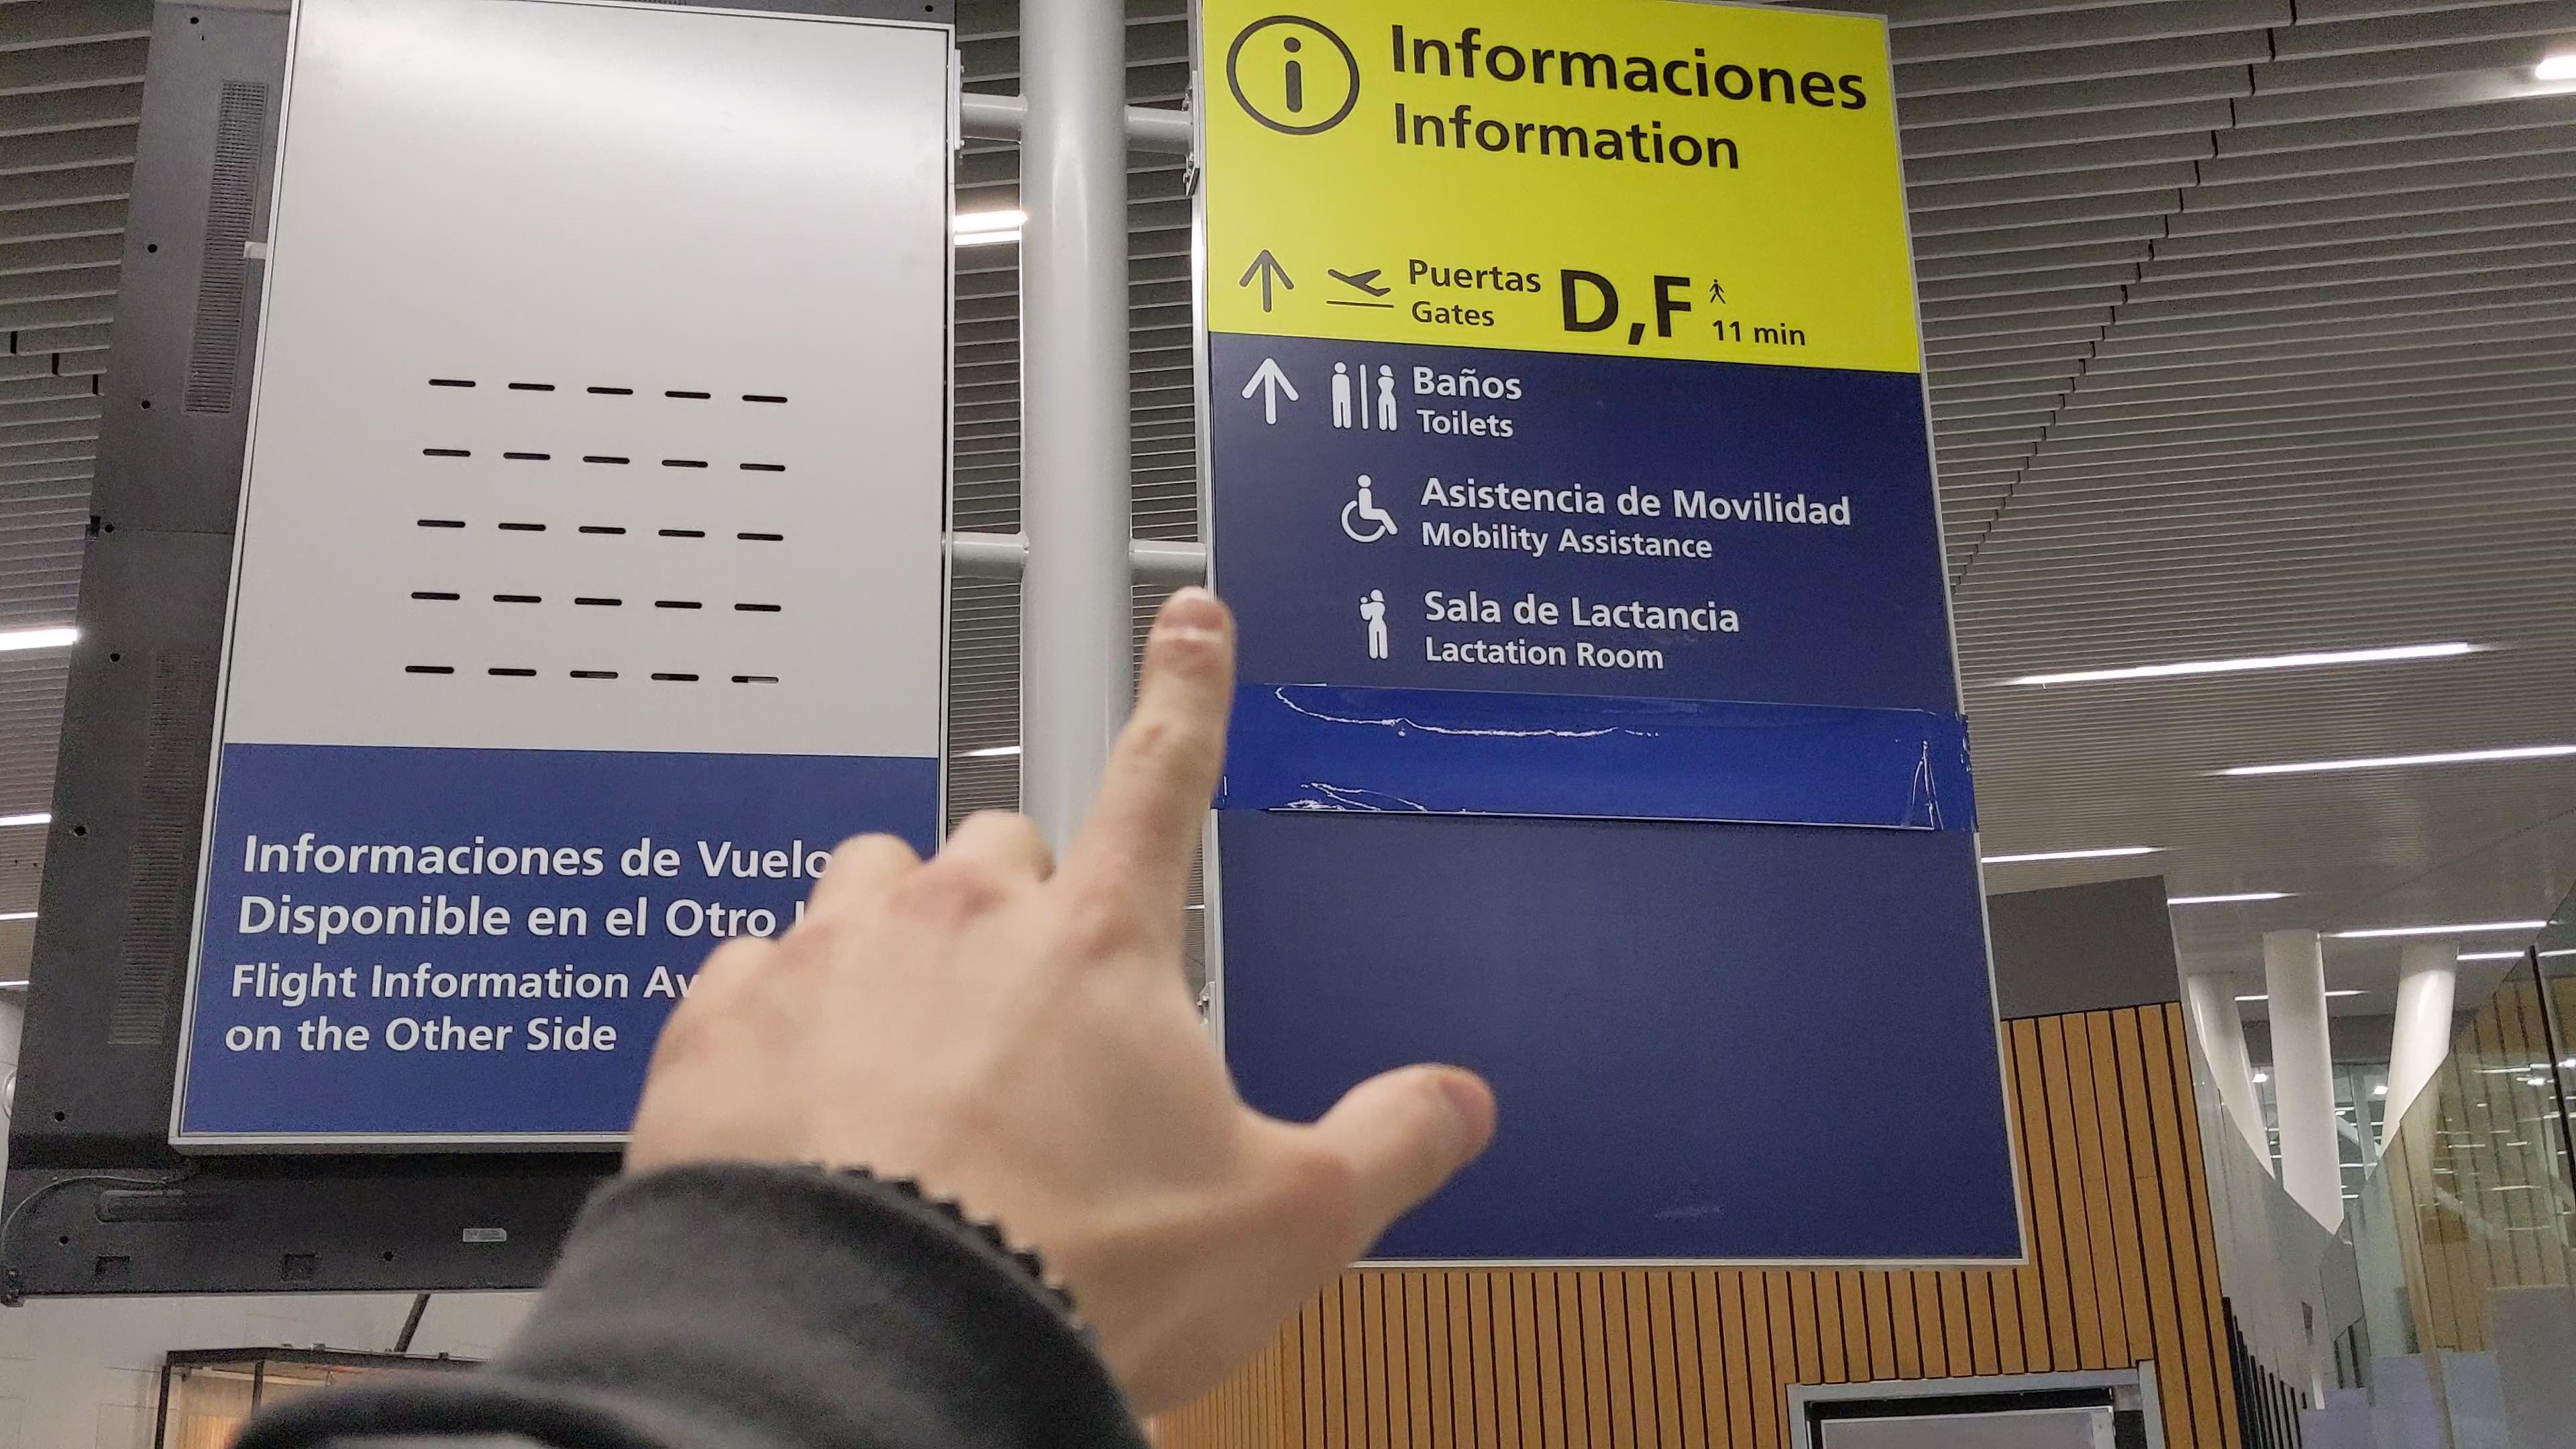airplane symbol: (1325, 260, 1396, 299)
bathrooms: (1329, 357, 1403, 435)
handicapped symbol: (1339, 471, 1399, 547)
up arrow: (1237, 347, 1306, 430), (1235, 244, 1300, 317)
